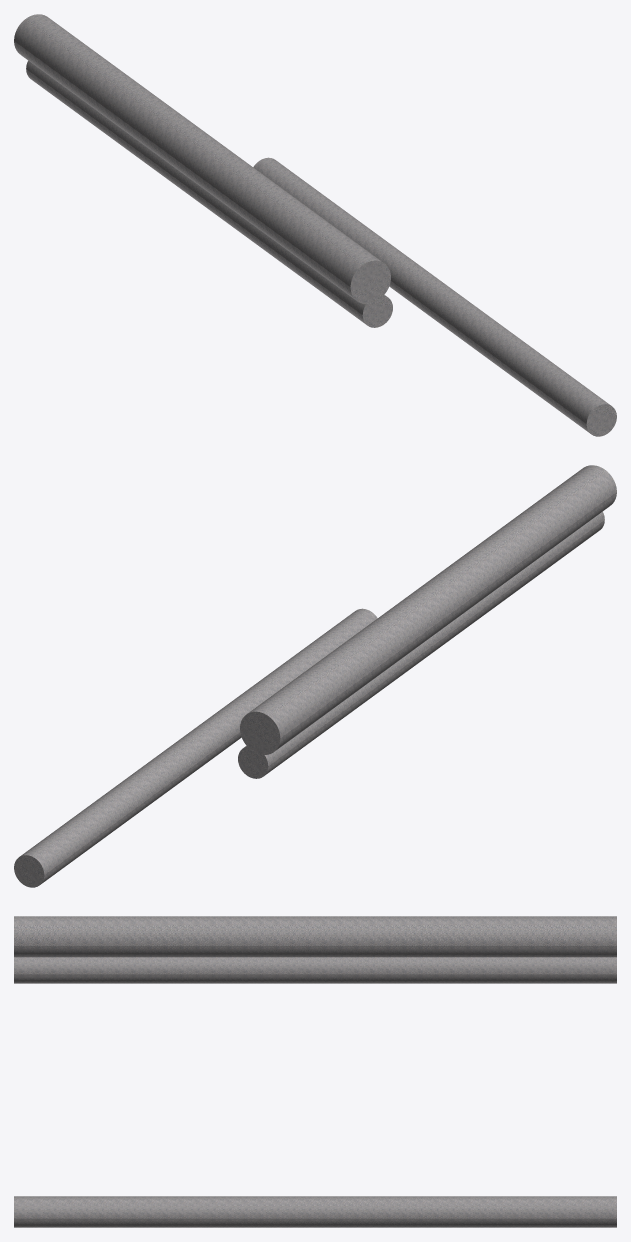
3 renders of one model, top to bottom at view 1: azimuth 30°, elevation 25°; view 2: azimuth 150°, elevation 25°; view 3: azimuth 270°, elevation 25°, orthographic. The views are drawn at different scales.
Visible parts, largest first — view 1: 0_2_0_3_0_2_2; view 2: 0_2_0_3_0_2_2; view 3: 0_2_0_3_0_2_2.
Part boxes in pixels (x1=…): 0_2_0_3_0_2_2: x1=14, y1=14, x2=616, y2=436; 0_2_0_3_0_2_2: x1=14, y1=465, x2=616, y2=887; 0_2_0_3_0_2_2: x1=14, y1=916, x2=616, y2=1227.
Size of the model in its own units: 5.27 by 4.37 by 11.53.
3 materials, 3 textured.
